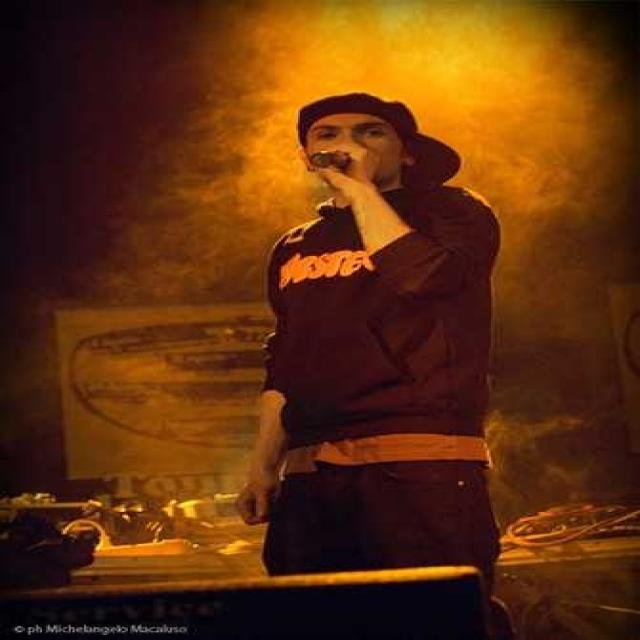microphone: (308, 152, 366, 215)
